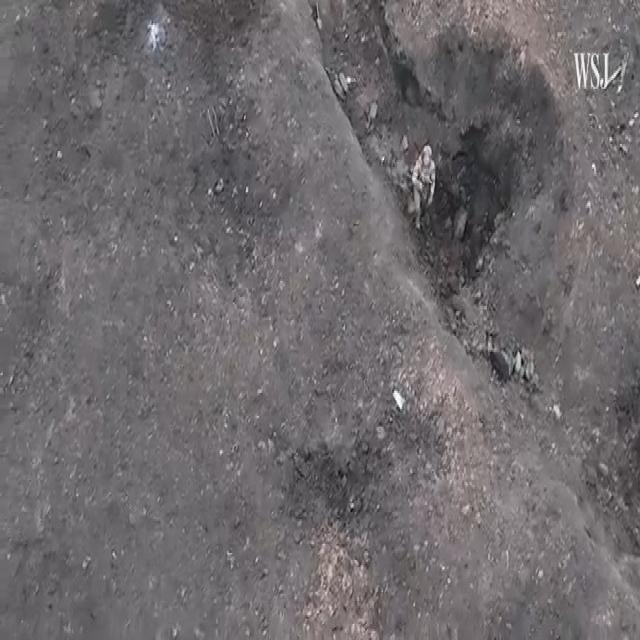MIL_Pax: (411, 144, 435, 228)
